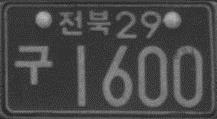0: (172, 45, 204, 108), (136, 44, 167, 107)
1: (74, 42, 89, 108)
2: (114, 9, 138, 39)
6: (100, 43, 134, 109)
9: (140, 10, 163, 40)
구: (14, 42, 53, 87)
전북_O: (57, 8, 111, 37)
